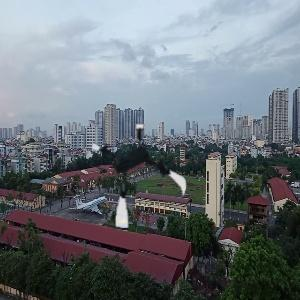drone: (84, 126, 190, 232)
